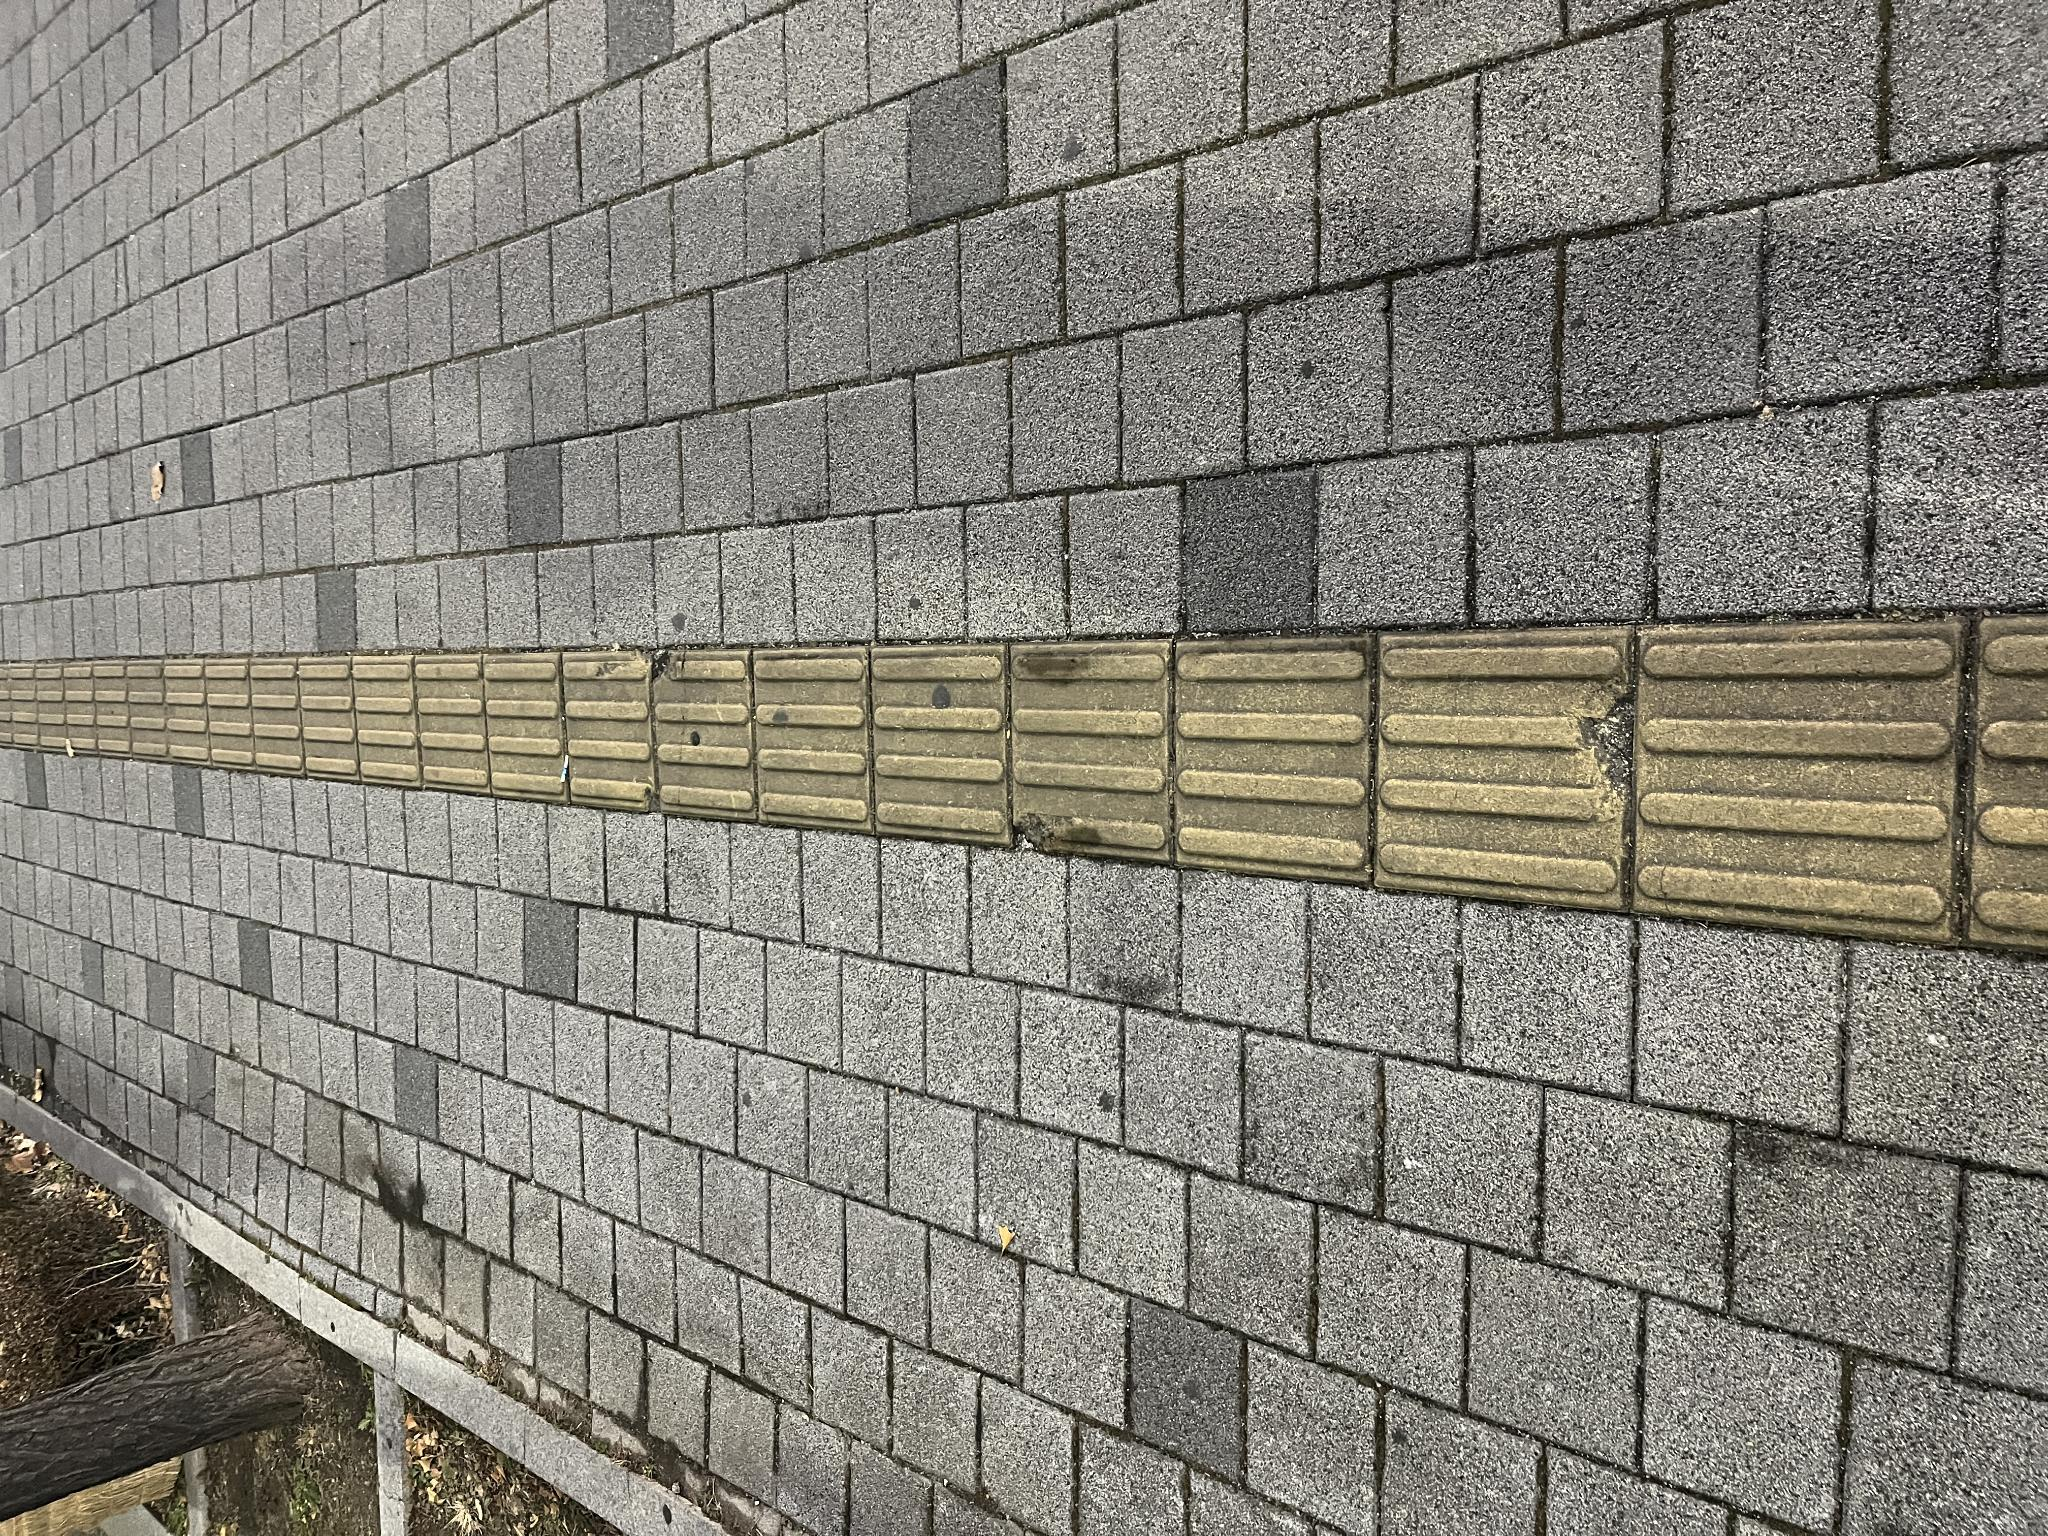Straight block broken: (635, 1376, 906, 1536), (677, 1012, 893, 1168), (718, 653, 885, 753), (726, 561, 884, 658)
Straight block normal: (653, 1176, 903, 1370), (692, 871, 890, 1010), (703, 753, 890, 871), (734, 482, 882, 566), (743, 416, 882, 489), (750, 352, 882, 421), (756, 297, 879, 360), (760, 247, 879, 307)
